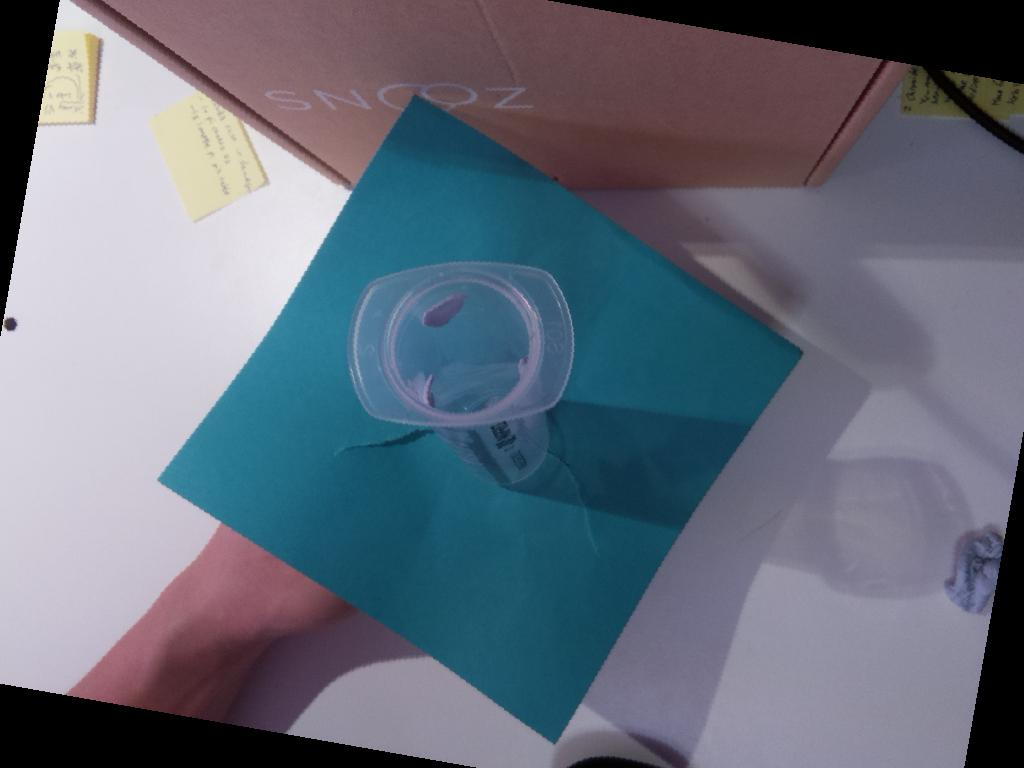dirty: (347, 260, 574, 425)
